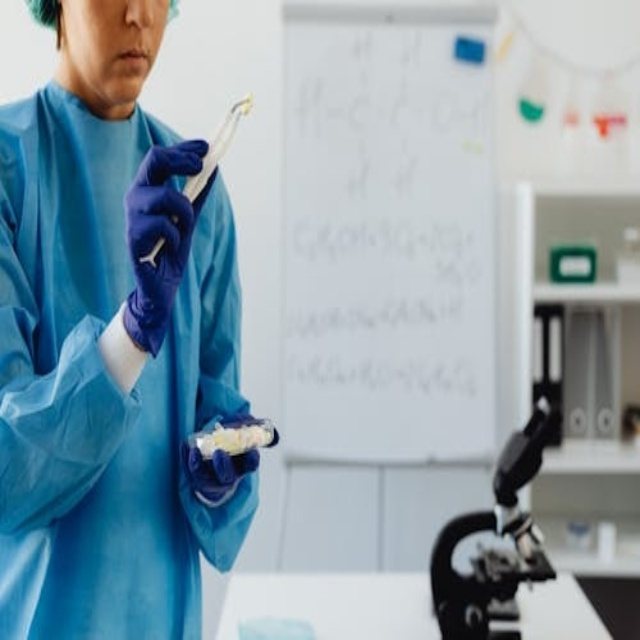Guantes: (121, 135, 213, 358), (183, 408, 272, 508)
Sin_mascara: (99, 35, 147, 100)
